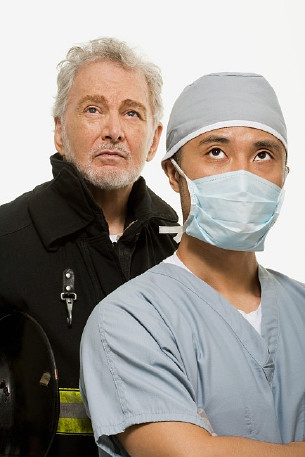Mask: (182, 132, 299, 249)
